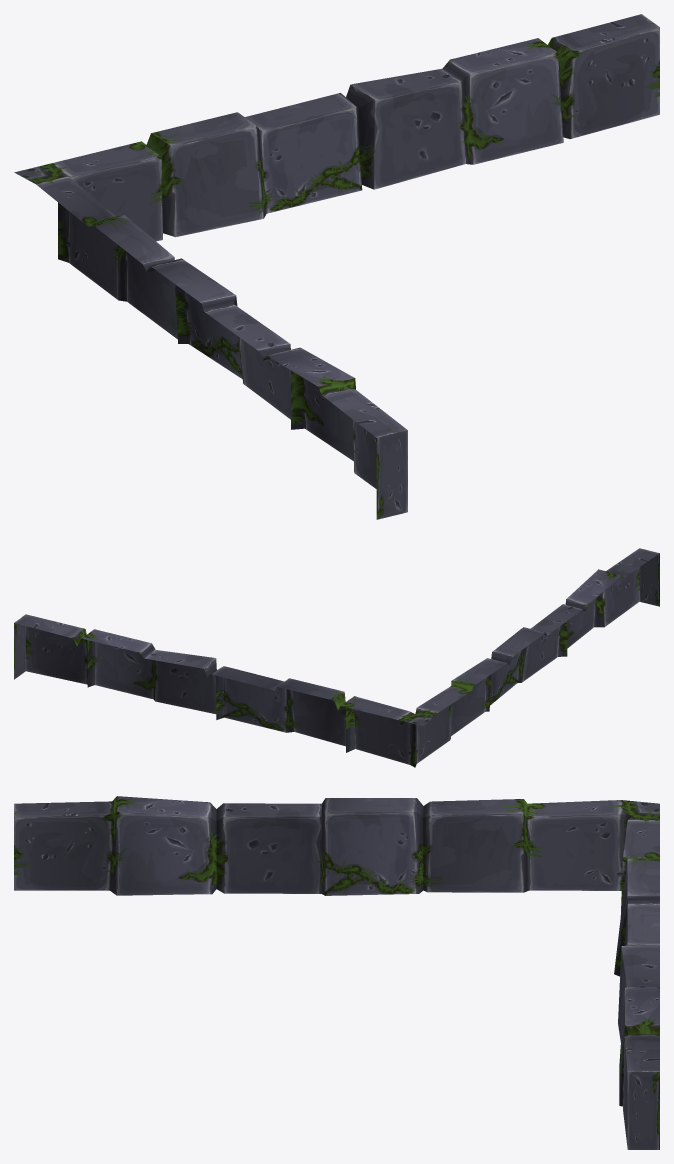
The model's file is MOD_WallTrim_01_O_corner.fbx.
The picture shows the model from 3 angles, top to bottom: view 1: azimuth 30°, elevation 25°; view 2: azimuth 150°, elevation 25°; view 3: azimuth 270°, elevation 25°; orthographic projection. The views are drawn at different scales.
Parts seen in each view (by area): view 1: MOD_WallTrim_01_O_corner; view 2: MOD_WallTrim_01_O_corner; view 3: MOD_WallTrim_01_O_corner.
Boxes of the visible parts, x1,y1,x2,y2 form: MOD_WallTrim_01_O_corner: (14,14,659,519); MOD_WallTrim_01_O_corner: (14,548,659,767); MOD_WallTrim_01_O_corner: (14,796,659,1149).
Size of what is drawn, in the model's own units: 400 by 55.17 by 400.
